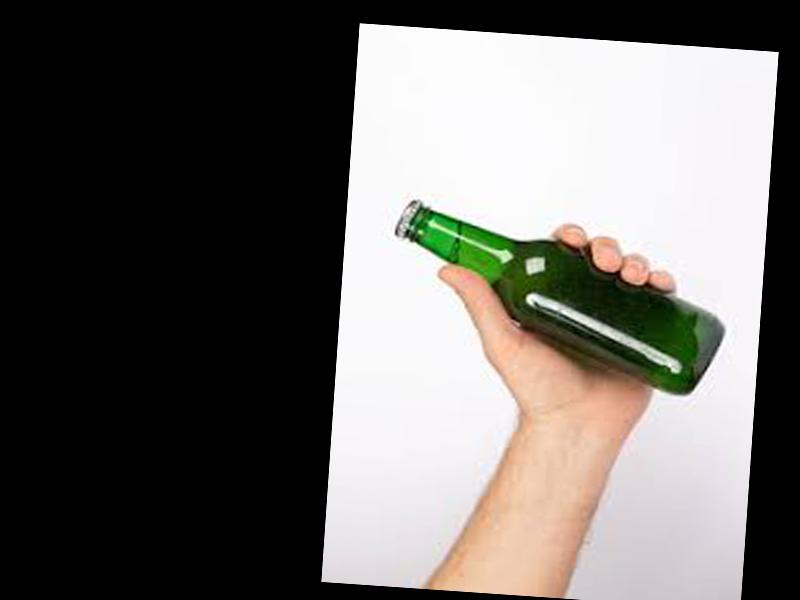Beer: (383, 200, 728, 398)
